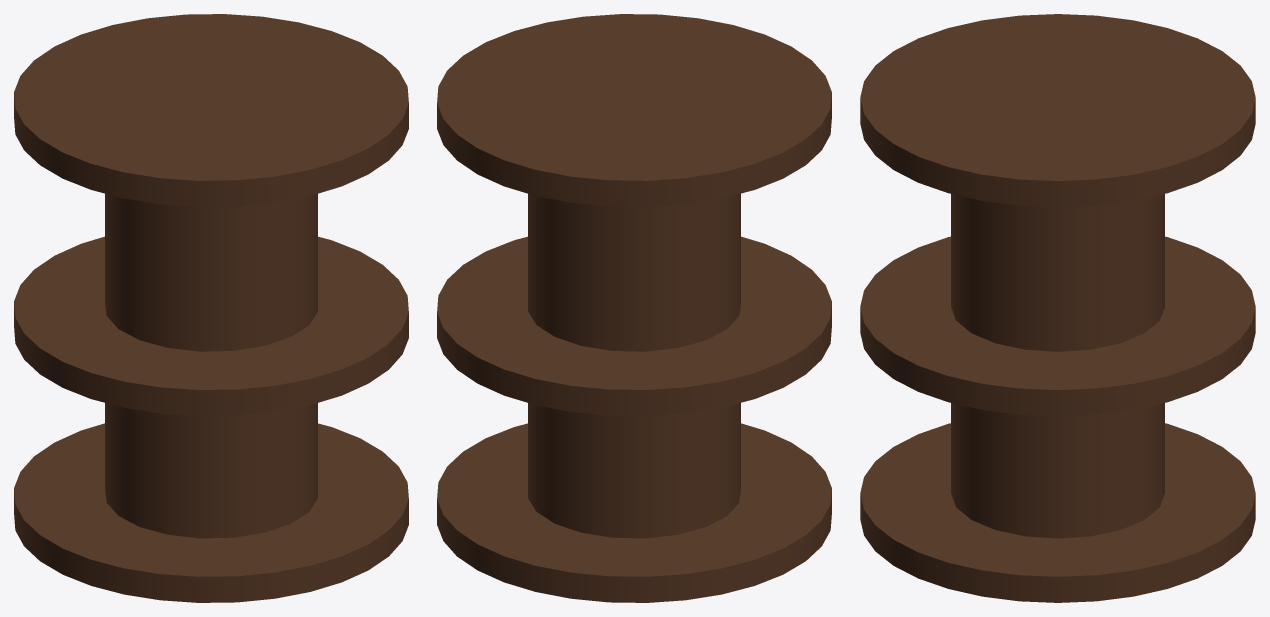
Rendered from side_table.glb.
The picture shows the model from 3 angles, left to right: view 1: azimuth 30°, elevation 25°; view 2: azimuth 150°, elevation 25°; view 3: azimuth 270°, elevation 25°; orthographic projection.
Size of the model in its own units: 0.48 by 0.5675 by 0.48.
